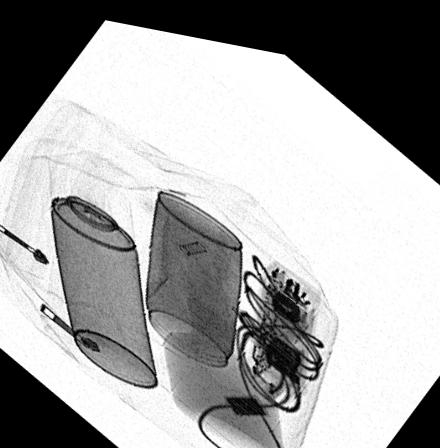Sprayer: (47, 156, 160, 382)
